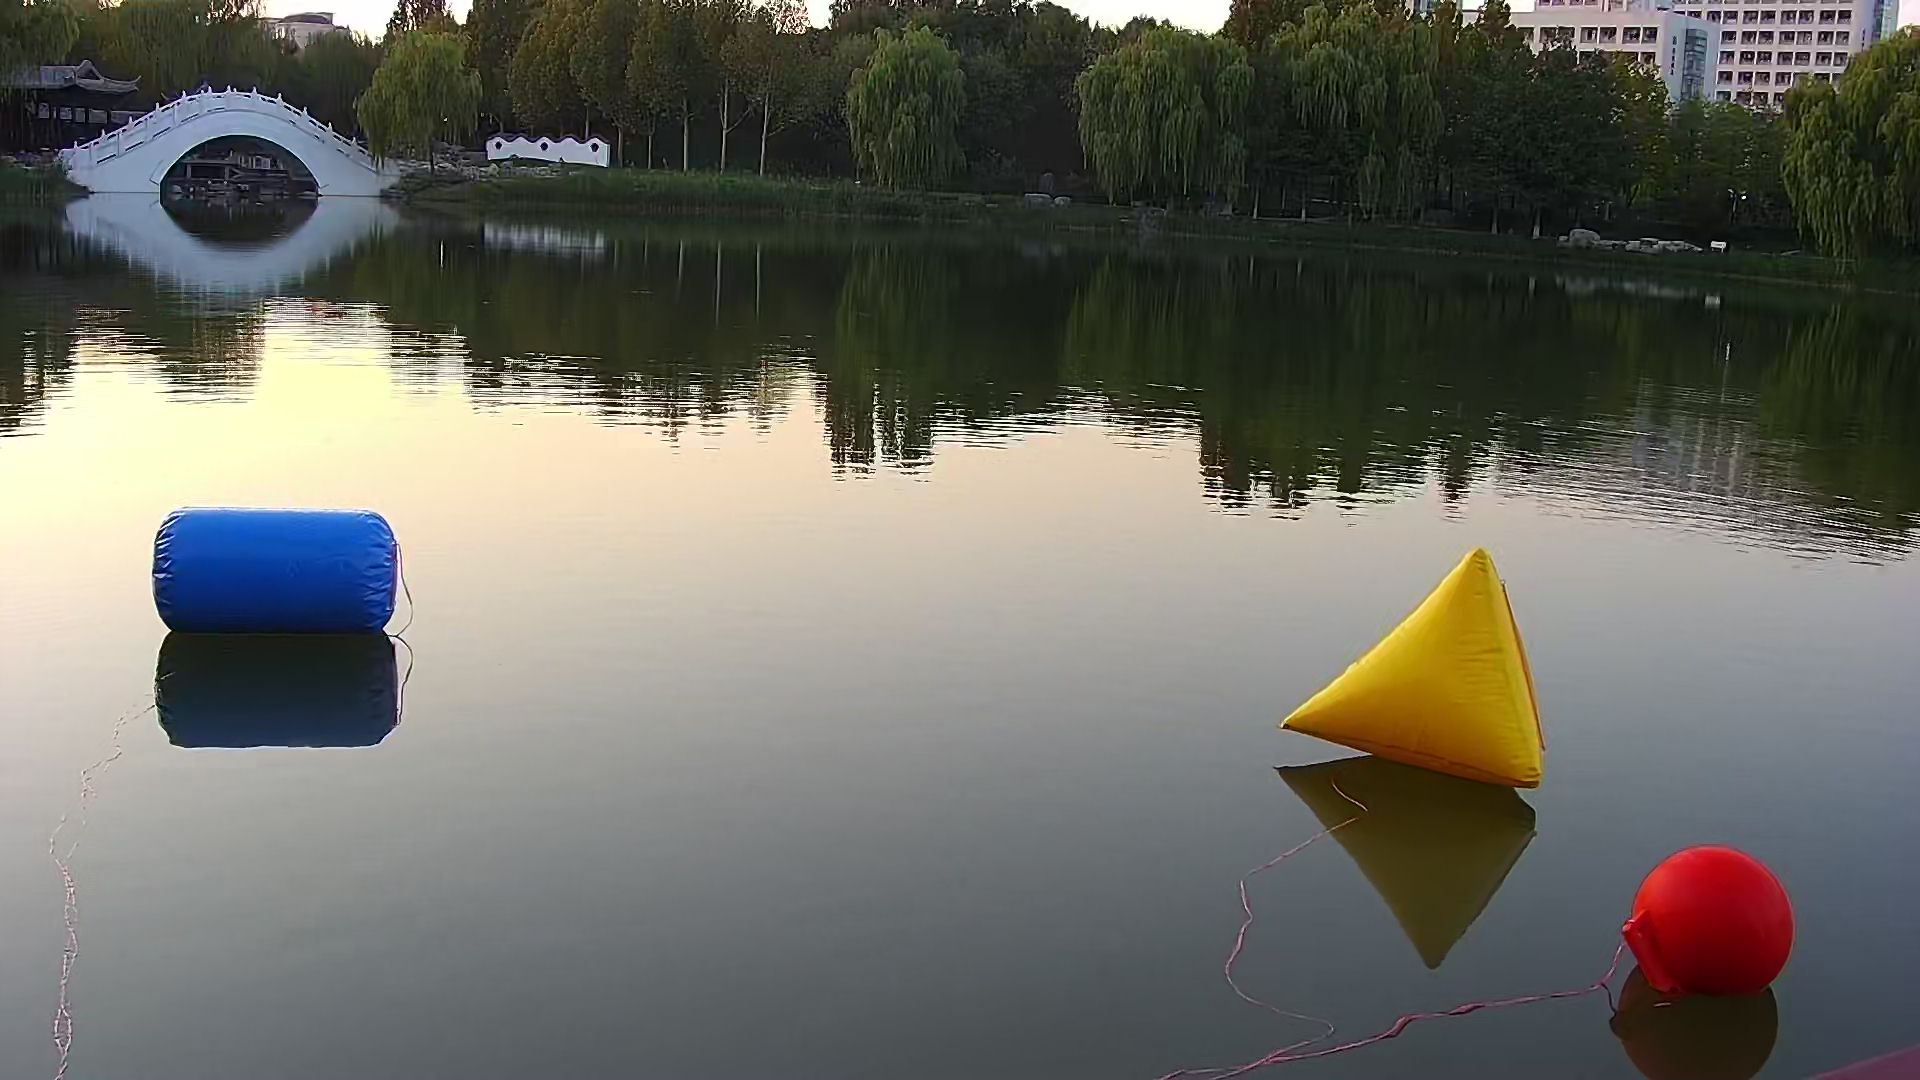ball: (1619, 837, 1801, 1007)
bridge: (65, 87, 421, 203)
rubbish: (1276, 539, 1553, 796), (148, 501, 404, 642)
